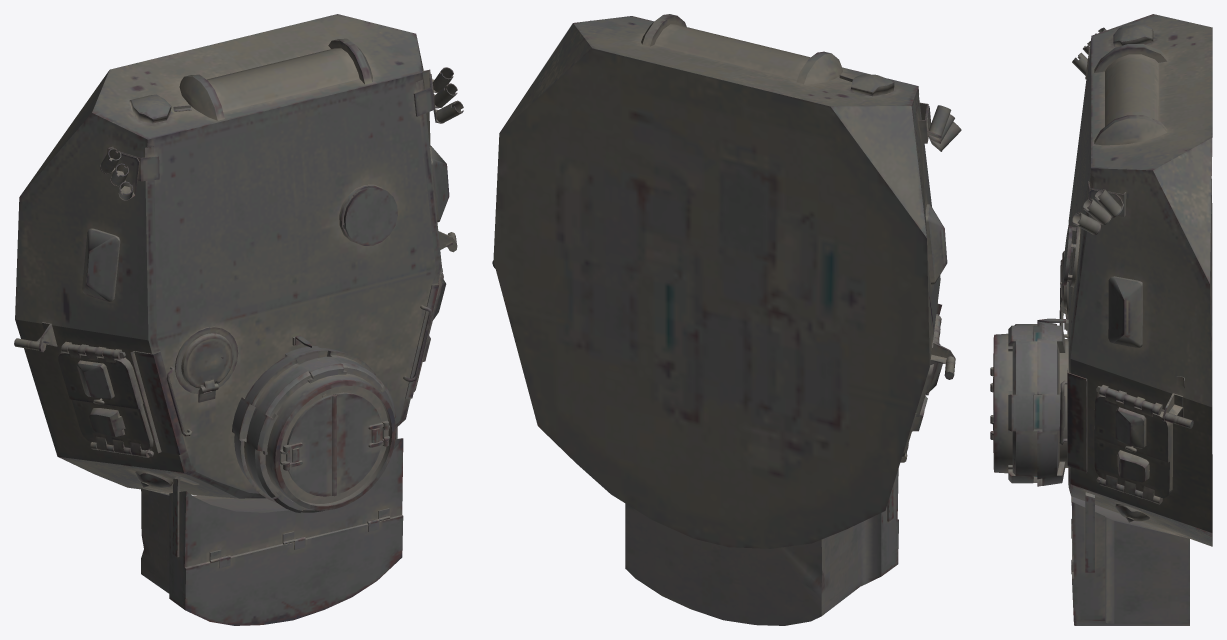
File: Turret_01.glb
The picture shows the model from 3 angles, left to right: view 1: azimuth 30°, elevation 25°; view 2: azimuth 150°, elevation 25°; view 3: azimuth 270°, elevation 25°; orthographic projection. The views are drawn at different scales.
Parts seen in each view (by area): view 1: set_0_group_0; view 2: set_0_group_0; view 3: set_0_group_0.
Part boxes in pixels (x1,y1,x2,y2): set_0_group_0: [14, 14, 463, 625]; set_0_group_0: [492, 14, 961, 625]; set_0_group_0: [990, 14, 1212, 625].
Size of the model in its own units: 2.21 by 2.55 by 0.9728.
Materials: 1 (1 with a texture image).
